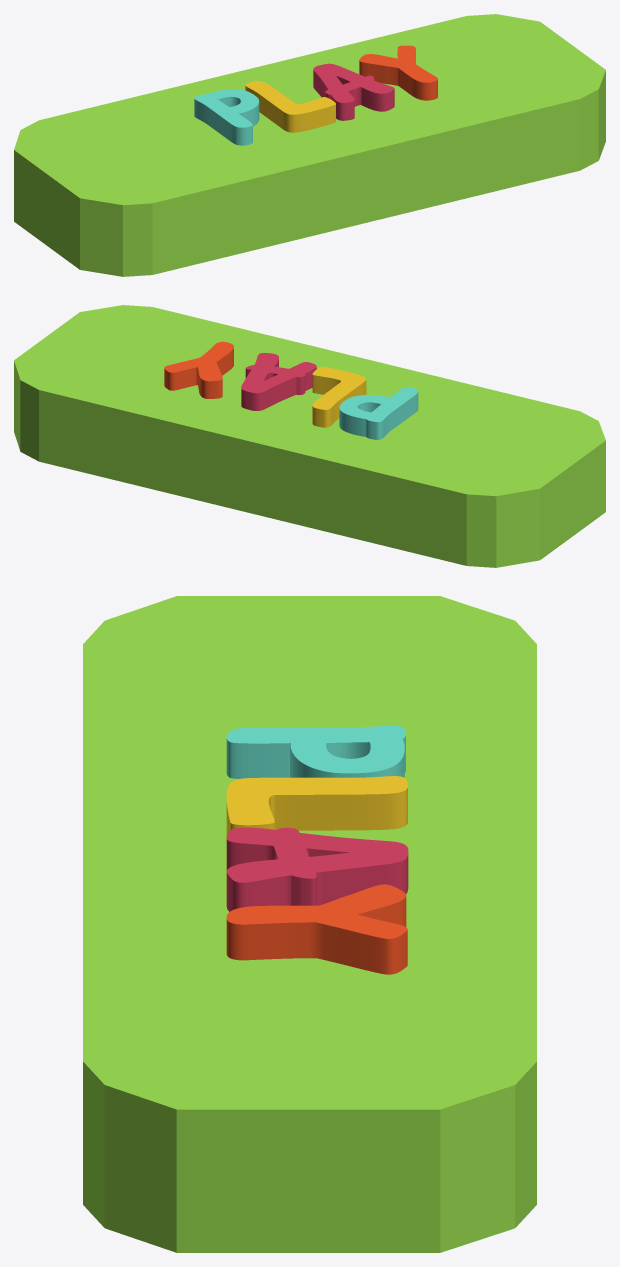
The model's file is play.fbx.
3 views of the same model, one above another, from view 1: azimuth 30°, elevation 25°; view 2: azimuth 150°, elevation 25°; view 3: azimuth 270°, elevation 25° (orthographic). The views are drawn at different scales.
Visible parts, largest first — view 1: Cube.002, Text.002; view 2: Cube.002, Text.002; view 3: Cube.002, Text.002.
Part boxes in pixels (x1,y1,x2,y2): Cube.002: (14,14,605,276); Text.002: (194,45,437,145); Cube.002: (14,305,605,567); Text.002: (164,341,418,439); Cube.002: (83,596,536,1252); Text.002: (226,725,408,974).
Size of the model in its own units: 535 by 87.1 by 200.
